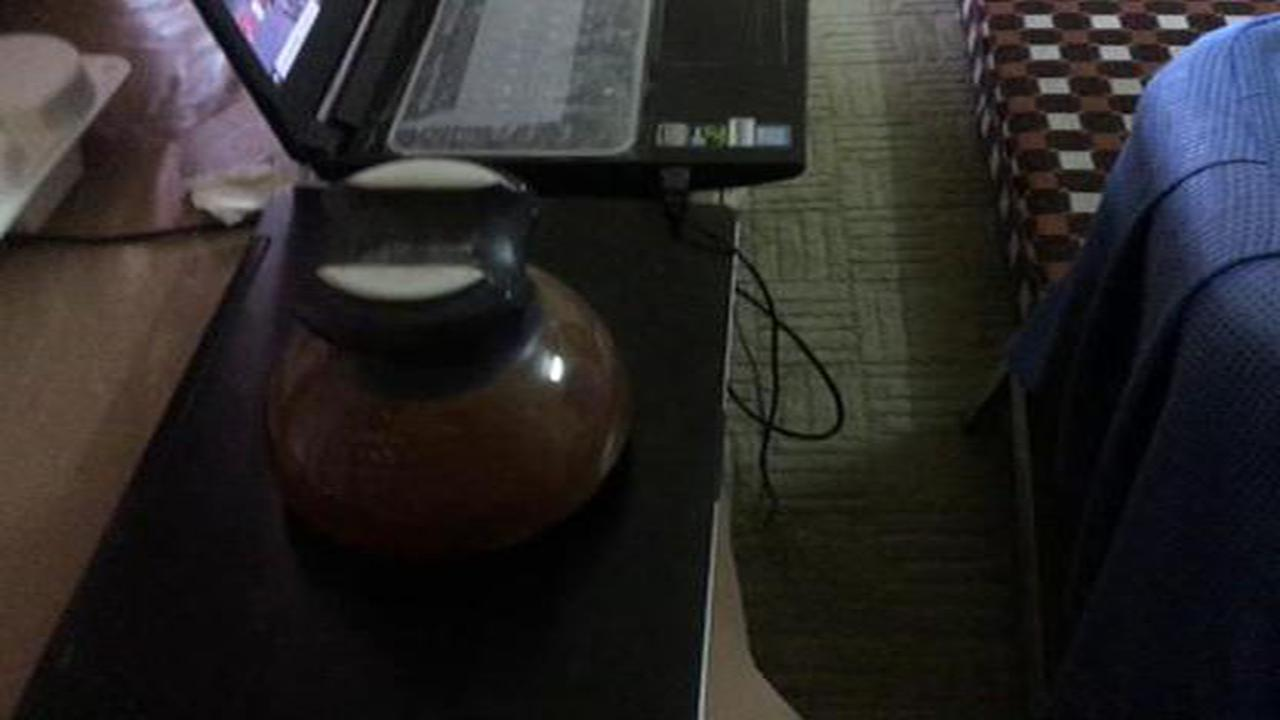insulator_pin: (233, 142, 662, 584)
